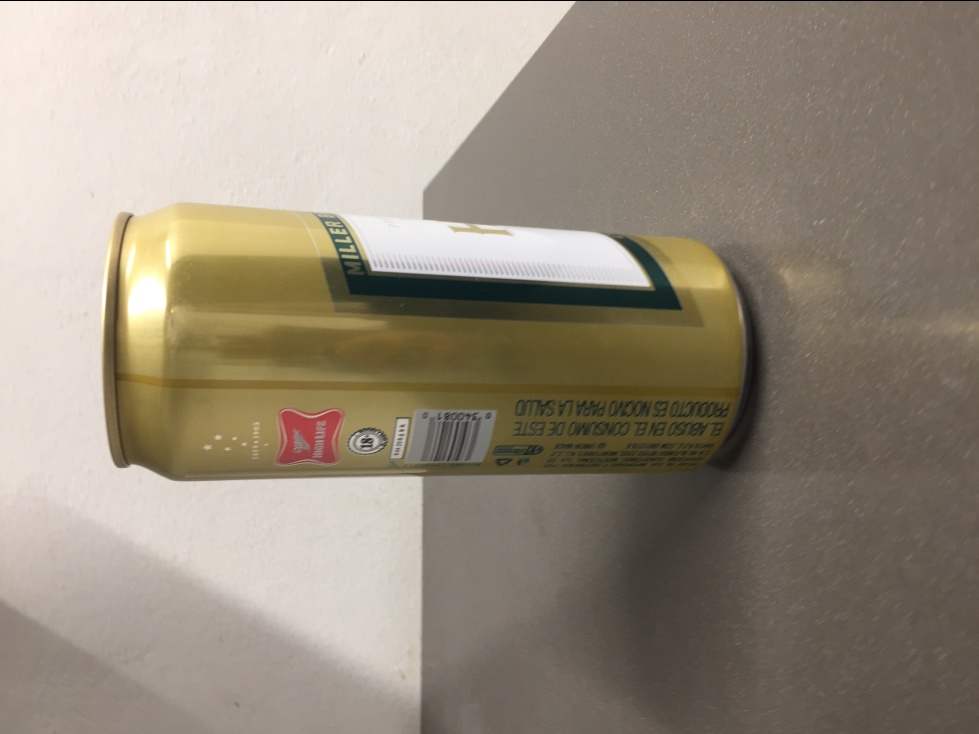miller: (99, 198, 752, 486)
